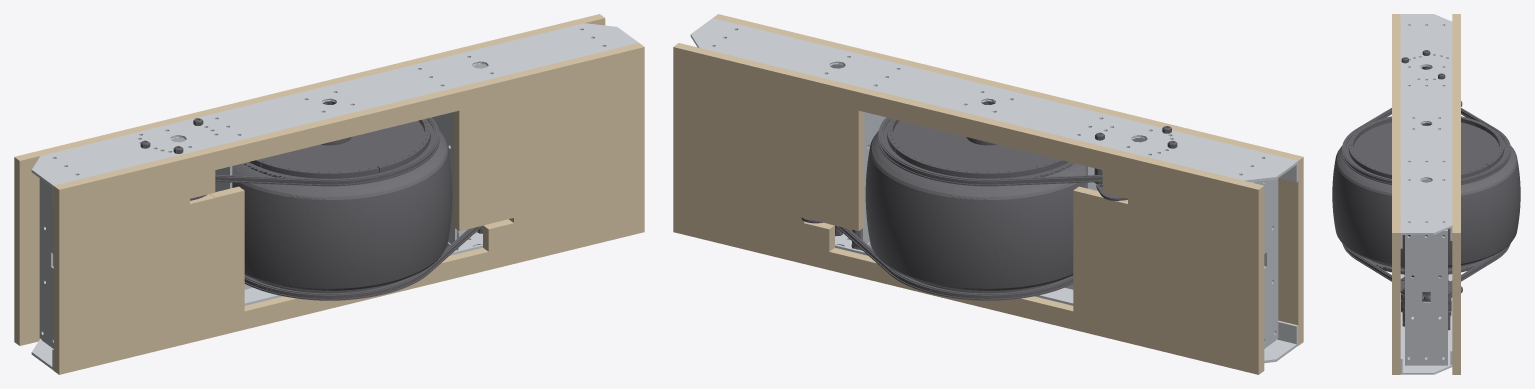
The model's file is onewheel.glb.
The picture shows the model from 3 angles, left to right: view 1: azimuth 30°, elevation 25°; view 2: azimuth 150°, elevation 25°; view 3: azimuth 270°, elevation 25°; orthographic projection. The views are drawn at different scales.
Parts seen in each view (by area): view 1: Deck_65, Wheel_3, SideRail_74, Deck_4, SPROCKET_No25_120T_119, CrossBeam_1, SHORT_chainsurrogate_72, LONG_chainsurrogate_73, SideRail_5, Part 2_127, CrossBeam_6, SprocketBrace_120; view 2: Deck_4, Wheel_3, SideRail_74, Deck_65, SPROCKET_No25_120T_119, CrossBeam_1, SHORT_chainsurrogate_72, LONG_chainsurrogate_73, SideRail_5, Part 4_123, CrossBeam_6, Part 3_124; view 3: SideRail_74, Wheel_3, CrossBeam_110, Deck_4, Deck_65, SPROCKET_No25_120T_119, SHORT_chainsurrogate_72, SideRail_5, LONG_chainsurrogate_73, SprocketBrace_120, Part 2_127, Part 4_123 (+4 smaller).
Boxes of the visible parts, x1,y1,x2,y2 form: Deck_65: (53,43,644,374); Wheel_3: (232,131,452,291); SideRail_74: (31,23,638,205); Deck_4: (14,14,605,345); SPROCKET_No25_120T_119: (242,121,434,182); CrossBeam_1: (39,178,53,347); SHORT_chainsurrogate_72: (215,117,439,186); LONG_chainsurrogate_73: (244,225,482,300); SideRail_5: (31,229,482,370); Part 2_127: (261,161,379,178); CrossBeam_6: (432,112,457,250); SprocketBrace_120: (377,122,430,172); Deck_4: (673,43,1264,374); Wheel_3: (865,131,1085,291); SideRail_74: (690,18,1298,182); Deck_65: (713,14,1303,345); SPROCKET_No25_120T_119: (883,121,1074,178); CrossBeam_1: (1251,178,1278,347); SHORT_chainsurrogate_72: (878,117,1102,186); LONG_chainsurrogate_73: (835,225,1073,300); SideRail_5: (835,229,1298,363); Part 4_123: (895,147,997,178); CrossBeam_6: (860,112,885,250); Part 3_124: (998,159,1068,178); SideRail_74: (1400,14,1452,248); Wheel_3: (1332,146,1520,267); CrossBeam_110: (1405,230,1447,363); Deck_4: (1452,14,1460,374); Deck_65: (1392,14,1400,374); SPROCKET_No25_120T_119: (1346,122,1506,179); SHORT_chainsurrogate_72: (1342,108,1510,184); SideRail_5: (1400,274,1452,374); LONG_chainsurrogate_73: (1342,244,1510,281); SprocketBrace_120: (1348,145,1391,178); Part 2_127: (1348,116,1391,146); Part 4_123: (1486,126,1504,168).
Size of the model in its own units: 762 by 242 by 277.
